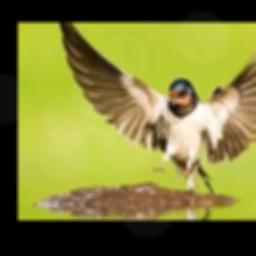Swallow: (58, 22, 256, 193)
